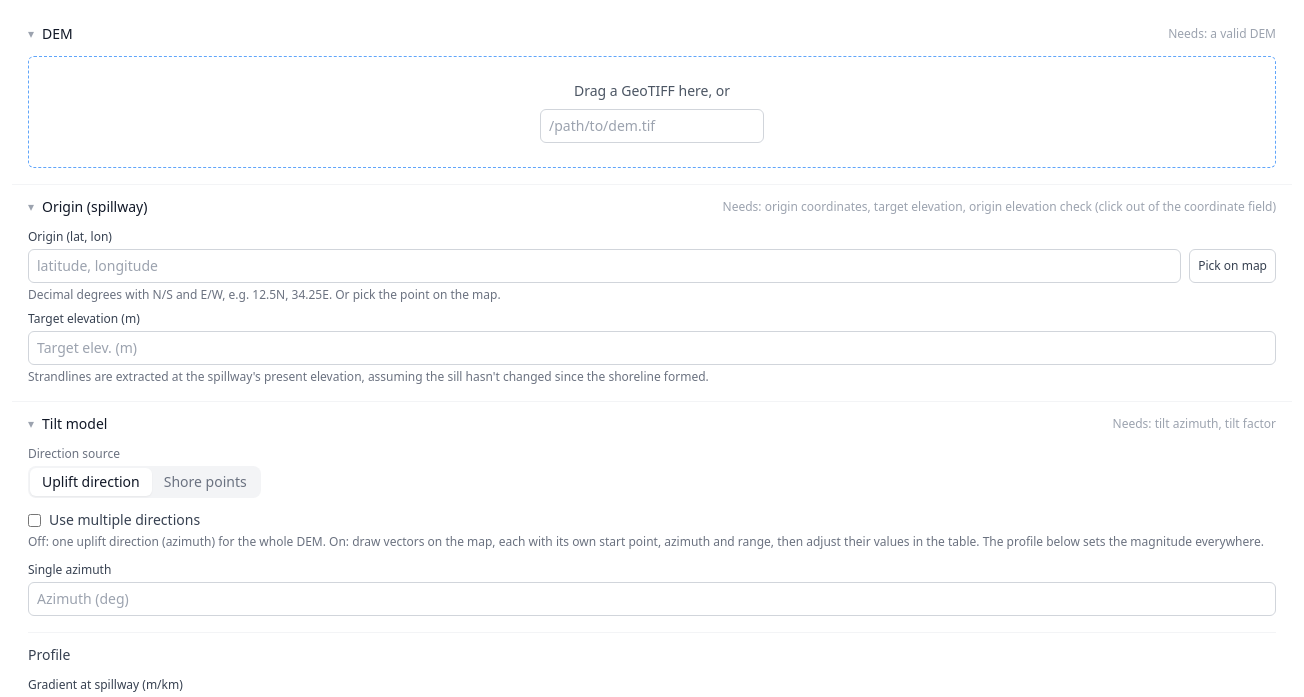
Test: AdvancedForm upload section › collapsing the DEM section mid-preflight does not cancel it
Type "/data/dem.tif" into the field with placeholder "/path/to/dem.tif" at (652, 126), box [540,109,764,143]
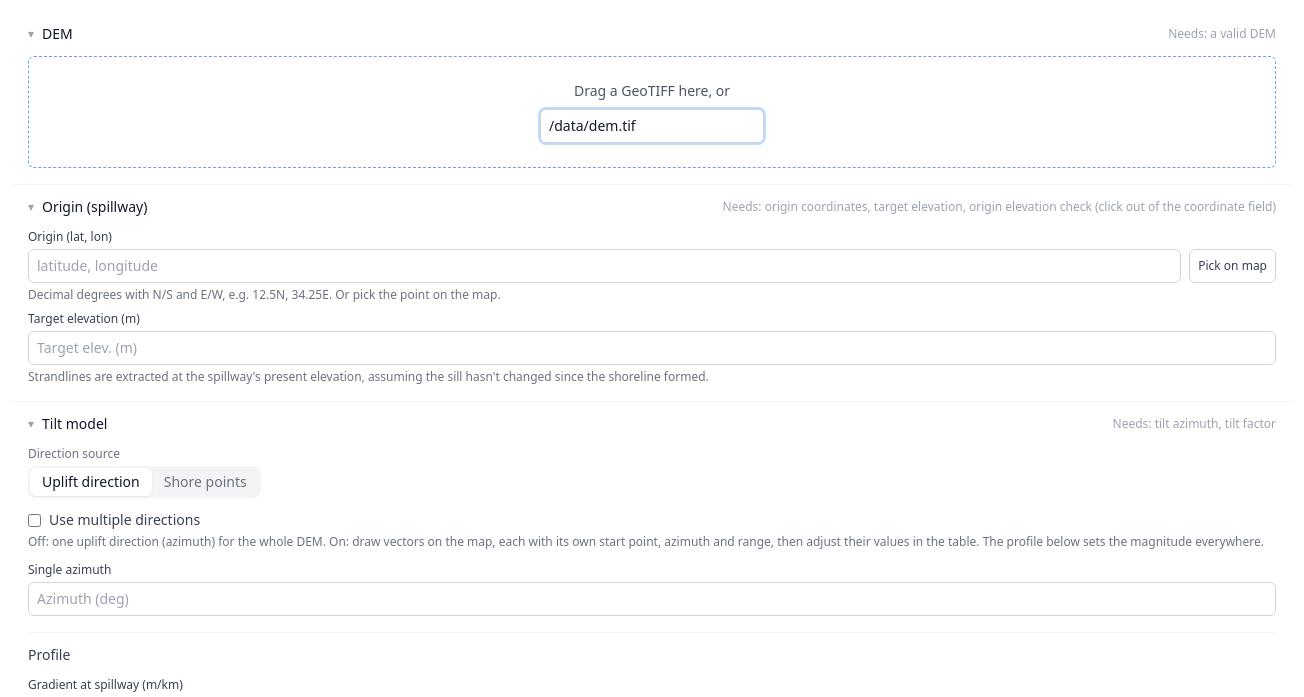
Press Tab
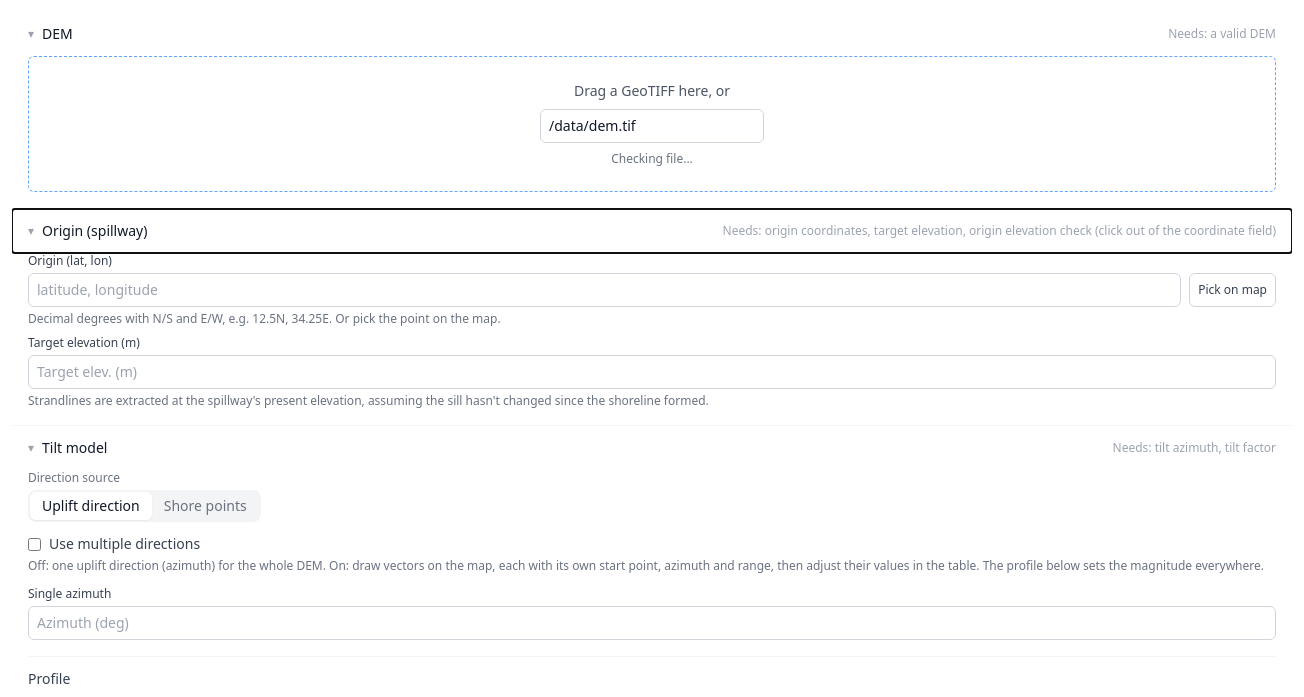
Click the button "▾ DEM Needs: a valid DEM" at (57, 34), box [12,12,1292,56]
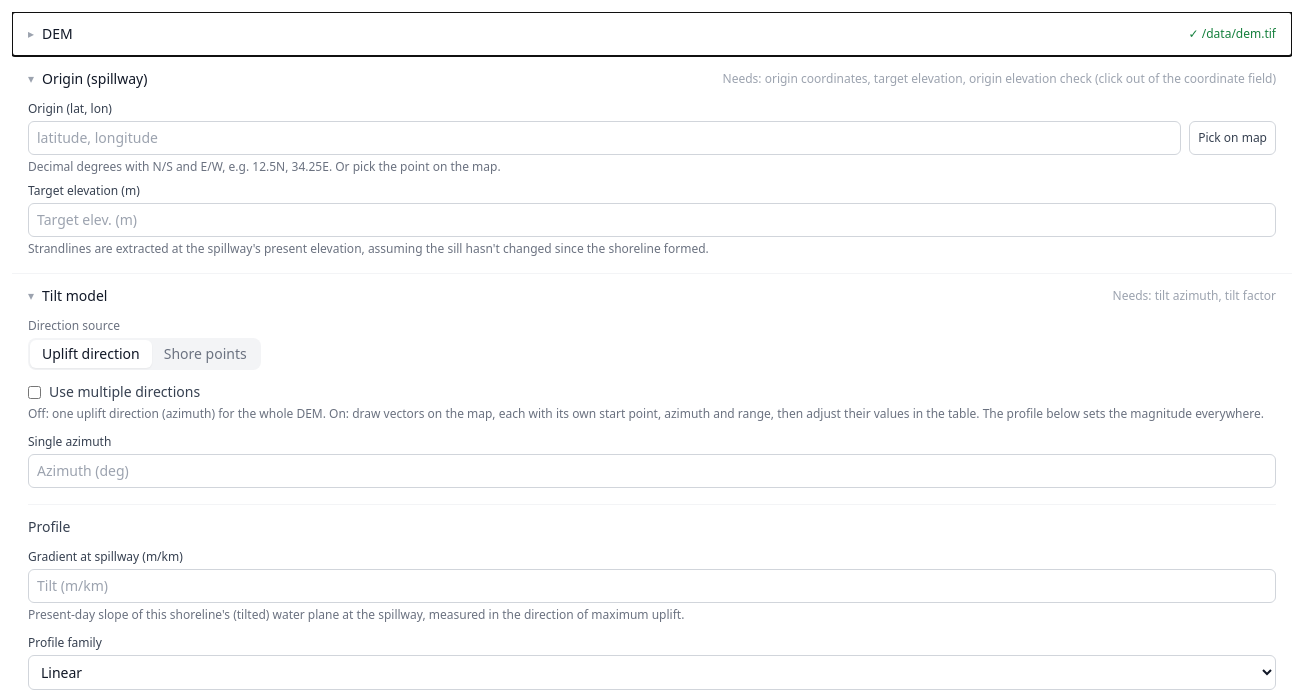
Expected: the text "/data/dem.tif" is shown, [1202,26,1276,42]
# ...and re-expanding shows the valid state.
Click the button "▸ DEM ✓ /data/dem.tif" at (57, 34), box [12,12,1292,56]
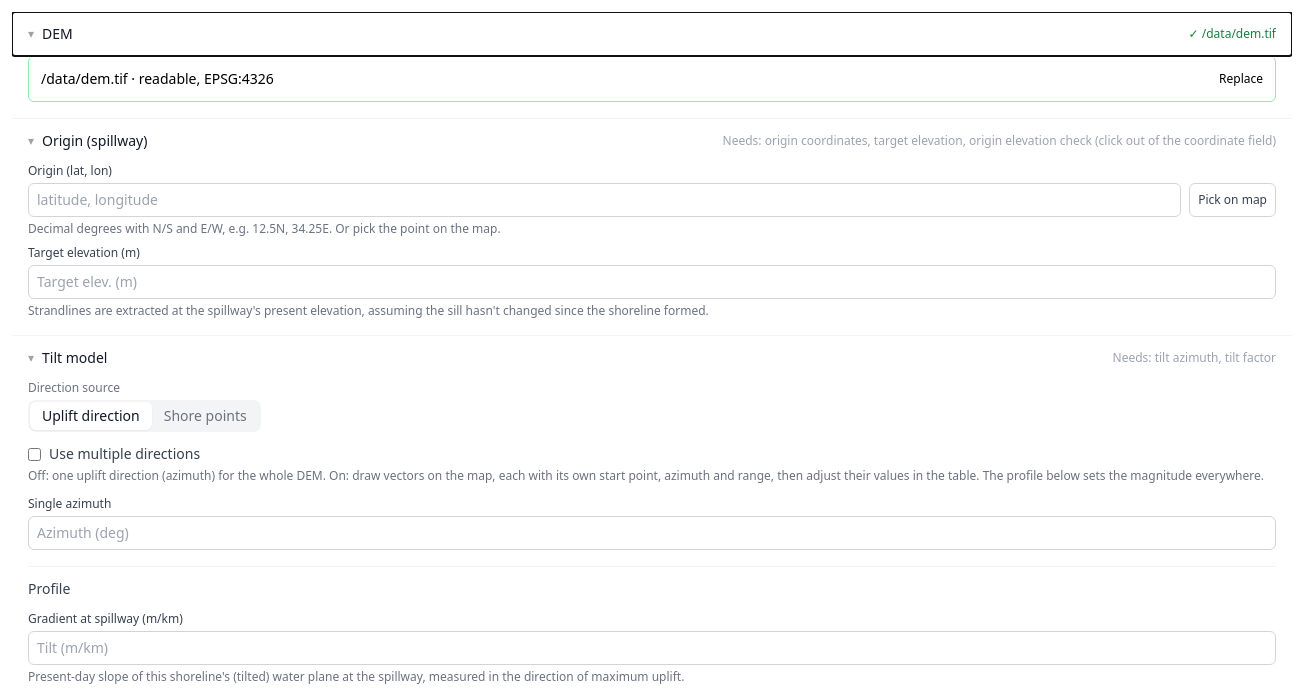
Expected: the text "/data/dem.tif · readable, EPSG:4326" is shown, [41,69,274,89]
